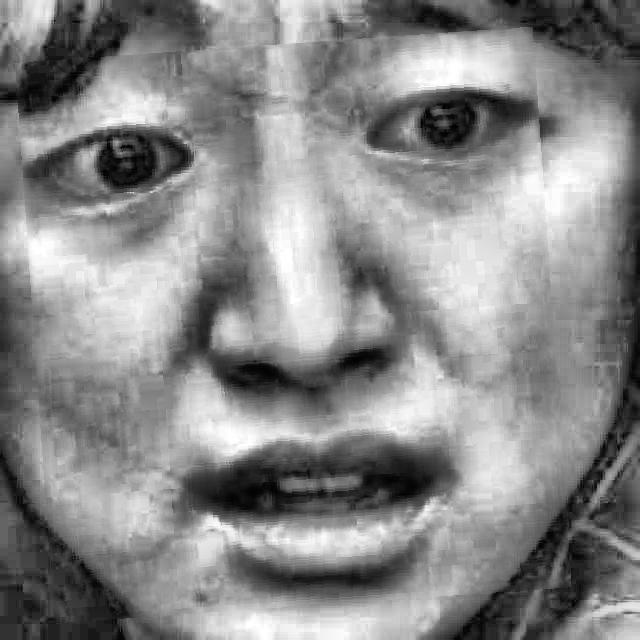fear: (25, 36, 562, 614)
